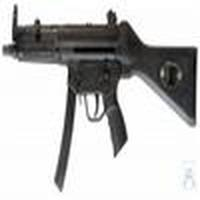gun: (1, 3, 200, 135)
